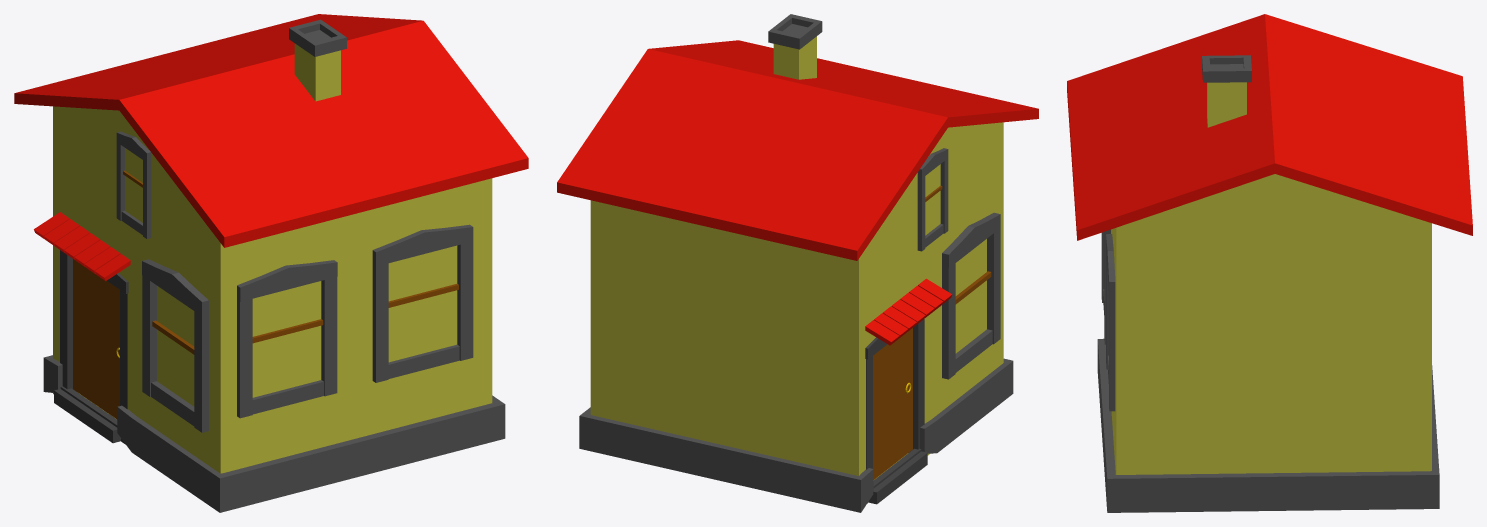
The picture shows the model from 3 angles, left to right: view 1: azimuth 30°, elevation 25°; view 2: azimuth 150°, elevation 25°; view 3: azimuth 270°, elevation 25°; orthographic projection. The views are drawn at different scales.
Parts seen in each view (by area): view 1: Cube.002; view 2: Cube.002; view 3: Cube.002.
Part boxes in pixels (x1,y1,x2,y2): Cube.002: (14,14,528,512); Cube.002: (557,14,1038,512); Cube.002: (1067,14,1472,512).
Bounding box in the file's own units: 489 × 561 × 530.
